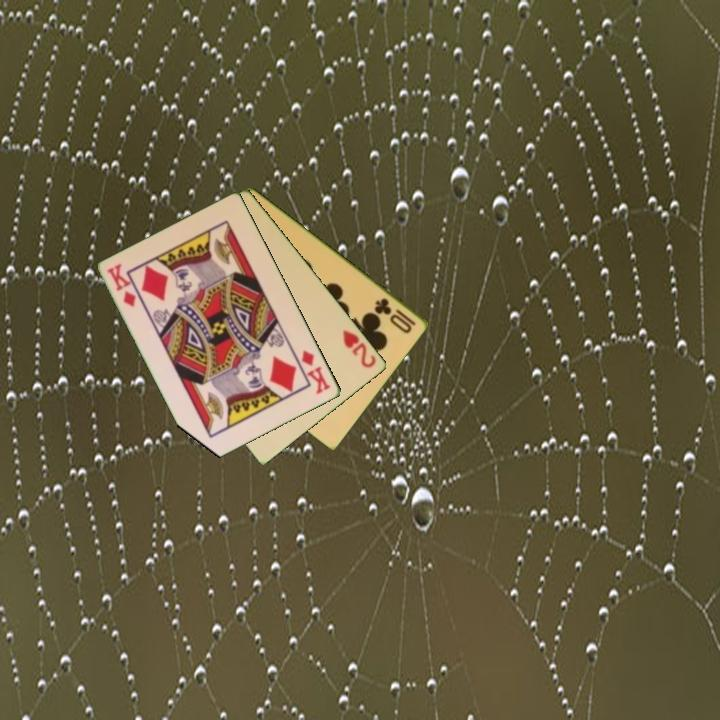10c: (371, 294, 419, 336)
2h: (339, 326, 379, 371)
Kd: (298, 346, 334, 397), (104, 260, 139, 310)
